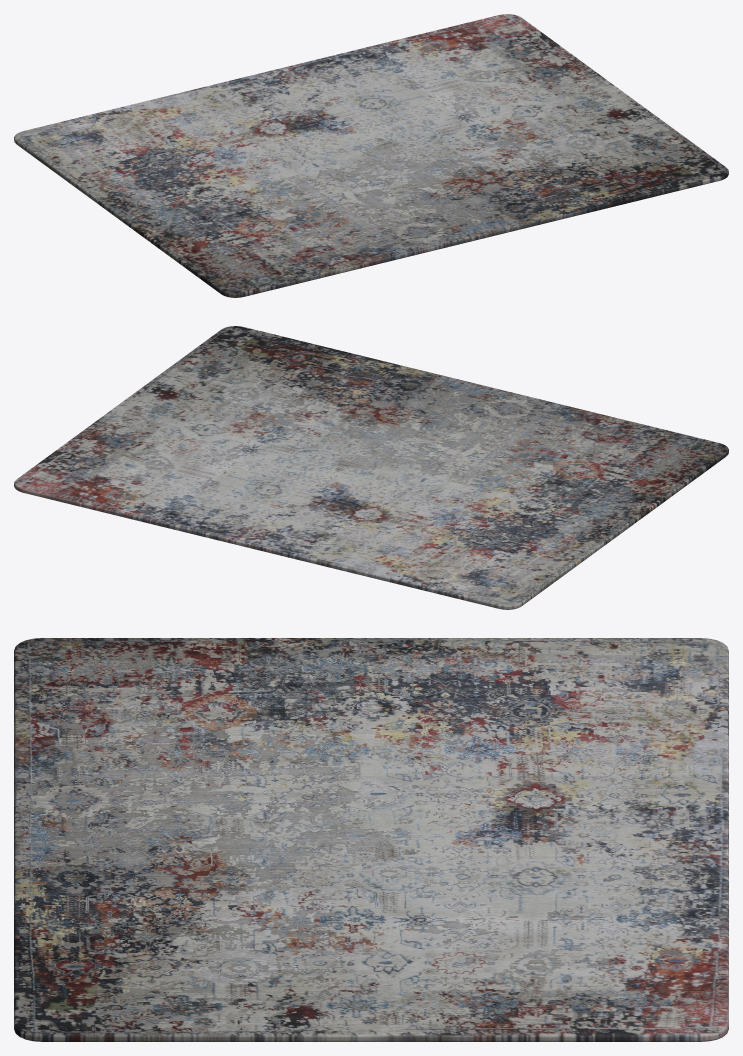
3 views of the same model, one above another, from view 1: azimuth 30°, elevation 25°; view 2: azimuth 150°, elevation 25°; view 3: azimuth 270°, elevation 25° (orthographic). The views are drawn at different scales.
Visible parts, largest first — view 1: Cube; view 2: Cube; view 3: Cube.
Boxes of the visible parts, x1,y1,x2,y2 form: Cube: (14,14,728,297); Cube: (14,326,728,609); Cube: (14,638,728,1041).
Size of the model in its own units: 4.56 by 0.04 by 3.46.
Materials: 1 (1 with a texture image).
